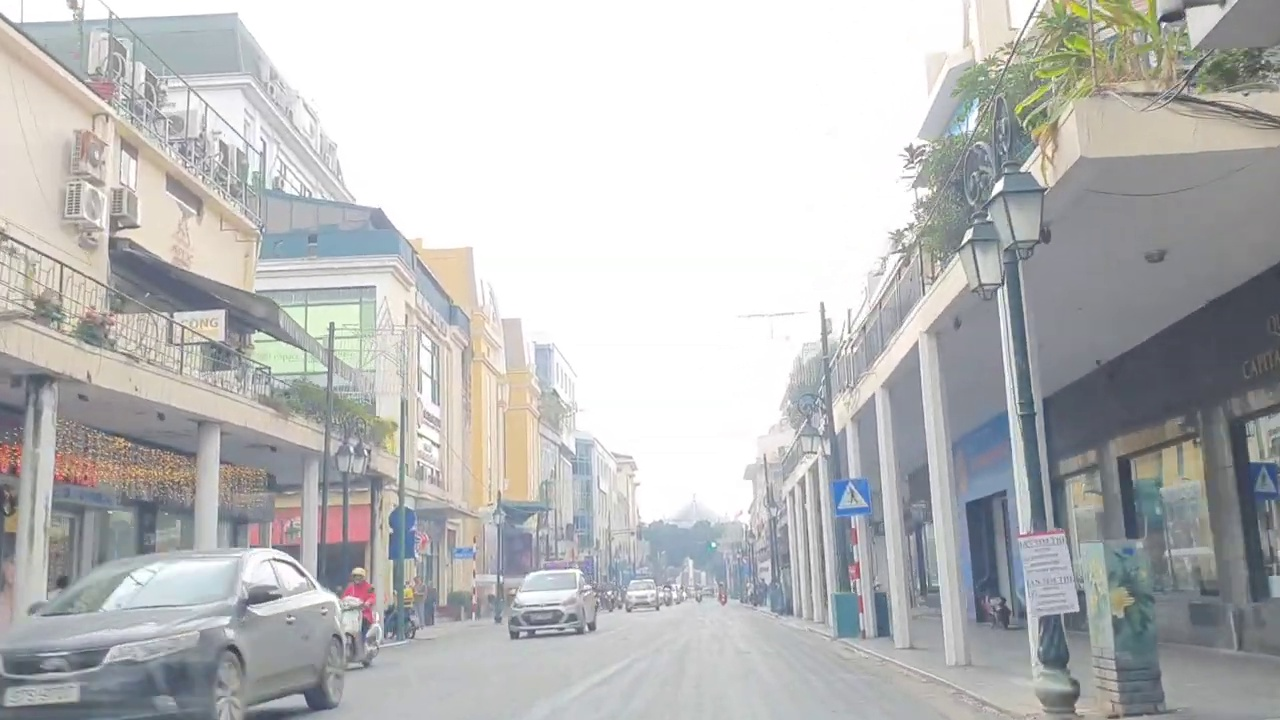person: (3, 685, 88, 705), (529, 612, 554, 621)
